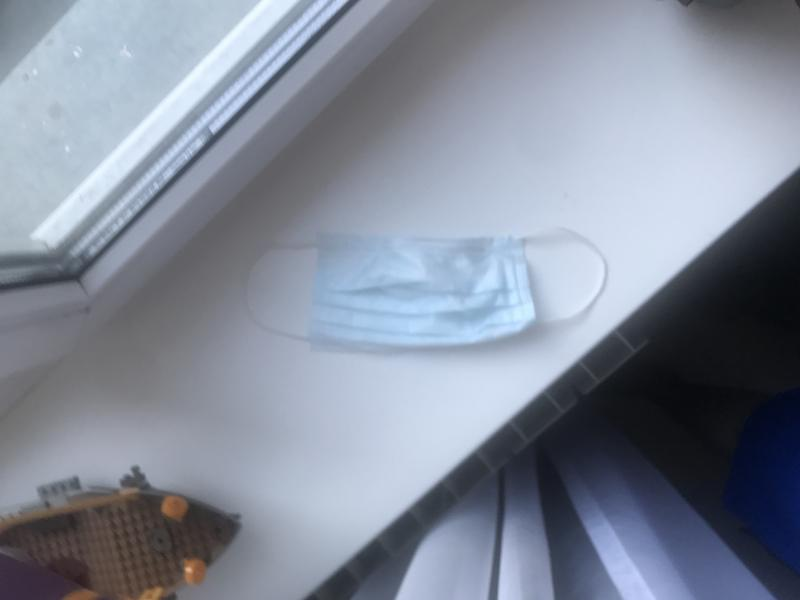medical_mask: (240, 227, 607, 342)
